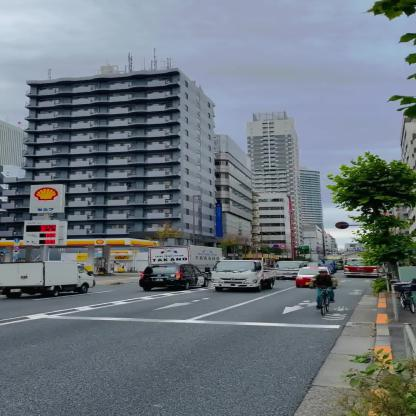bus: (344, 257, 379, 278)
car: (140, 265, 213, 292), (297, 267, 332, 289)
motorcycle: (309, 269, 335, 316)
truck: (1, 261, 98, 297), (209, 259, 277, 294), (148, 244, 226, 274)
